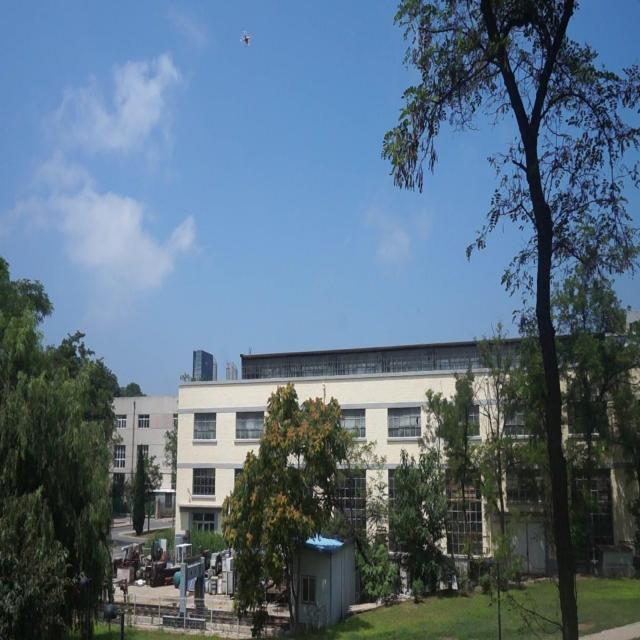UAV: (239, 30, 251, 47)
